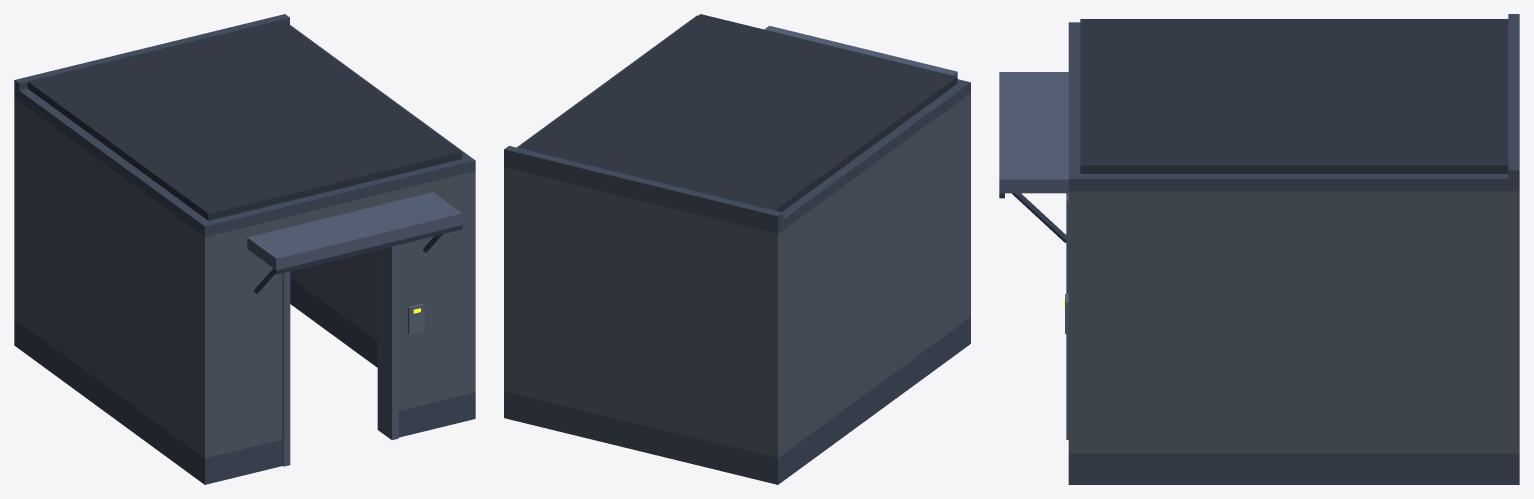
Rendered from roof_stairwell_hut.glb.
3 renders of one model, left to right at view 1: azimuth 30°, elevation 25°; view 2: azimuth 150°, elevation 25°; view 3: azimuth 270°, elevation 25°, orthographic. The views are drawn at different scales.
Parts seen in each view (by area): view 1: wall, roof, base_course, door_frame, trim; view 2: wall, roof, base_course, door_frame; view 3: wall, roof, base_course, door_frame.
Part boxes in pixels (<box>): wall: <box>14,98,475,458</box>; roof: <box>27,19,462,220</box>; base_course: <box>14,14,475,484</box>; door_frame: <box>247,192,462,466</box>; trim: <box>254,225,462,293</box>; wall: <box>504,93,970,457</box>; roof: <box>518,14,957,212</box>; base_course: <box>504,15,970,484</box>; door_frame: <box>764,25,957,78</box>; wall: <box>1068,191,1519,453</box>; roof: <box>1080,19,1508,173</box>; base_course: <box>1068,14,1519,484</box>; door_frame: <box>999,72,1068,439</box>.
Bounding box in the file's own units: 3.2 × 3 × 4.5.
